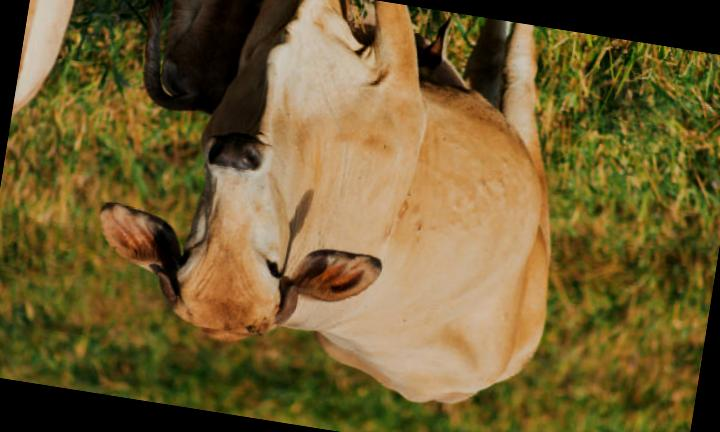Brahman: (103, 0, 550, 402)
